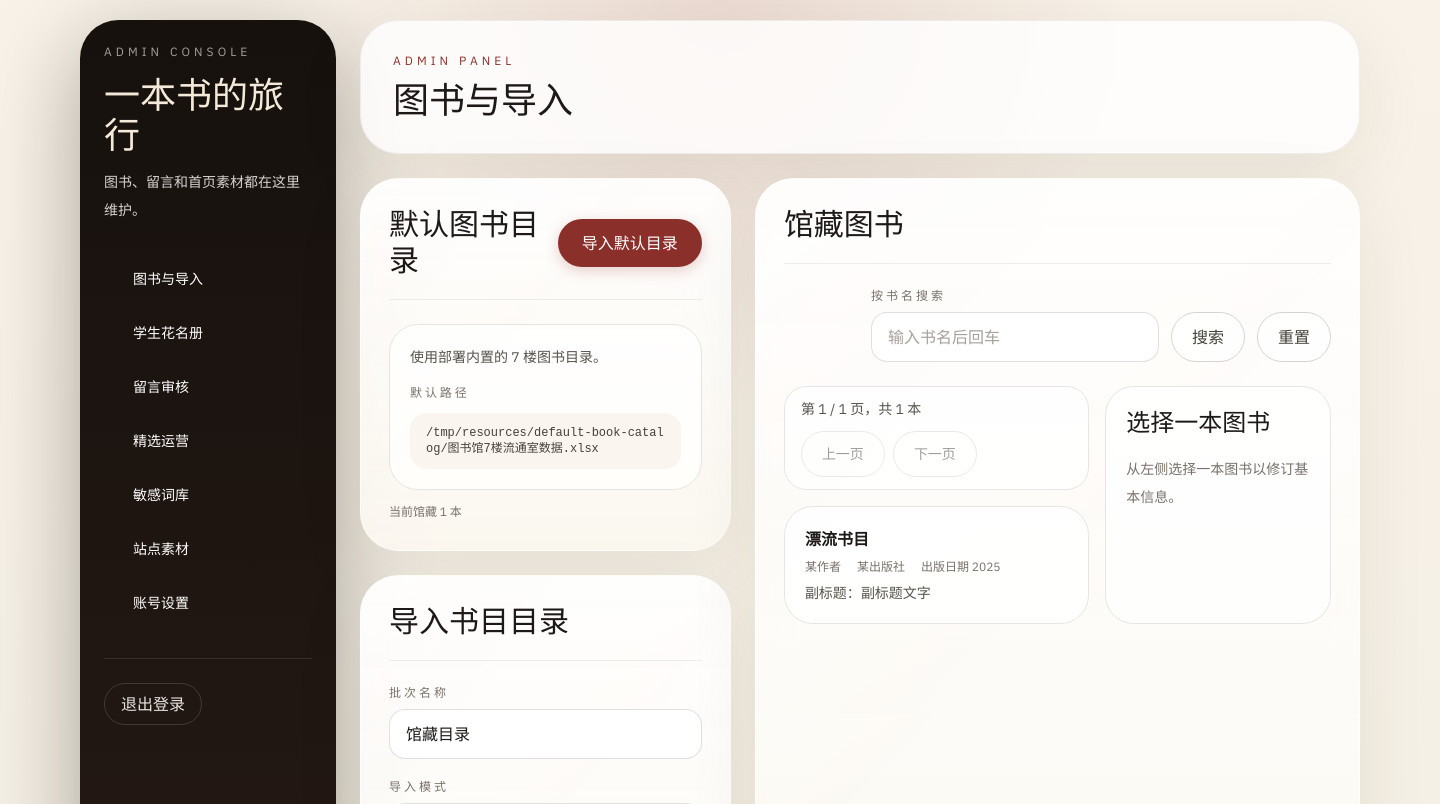
Test: BooksPage › clicking a book reveals edit form with pre-filled title
Step 1. Click the text "漂流书目" → (837, 539), box [805, 529, 869, 549]
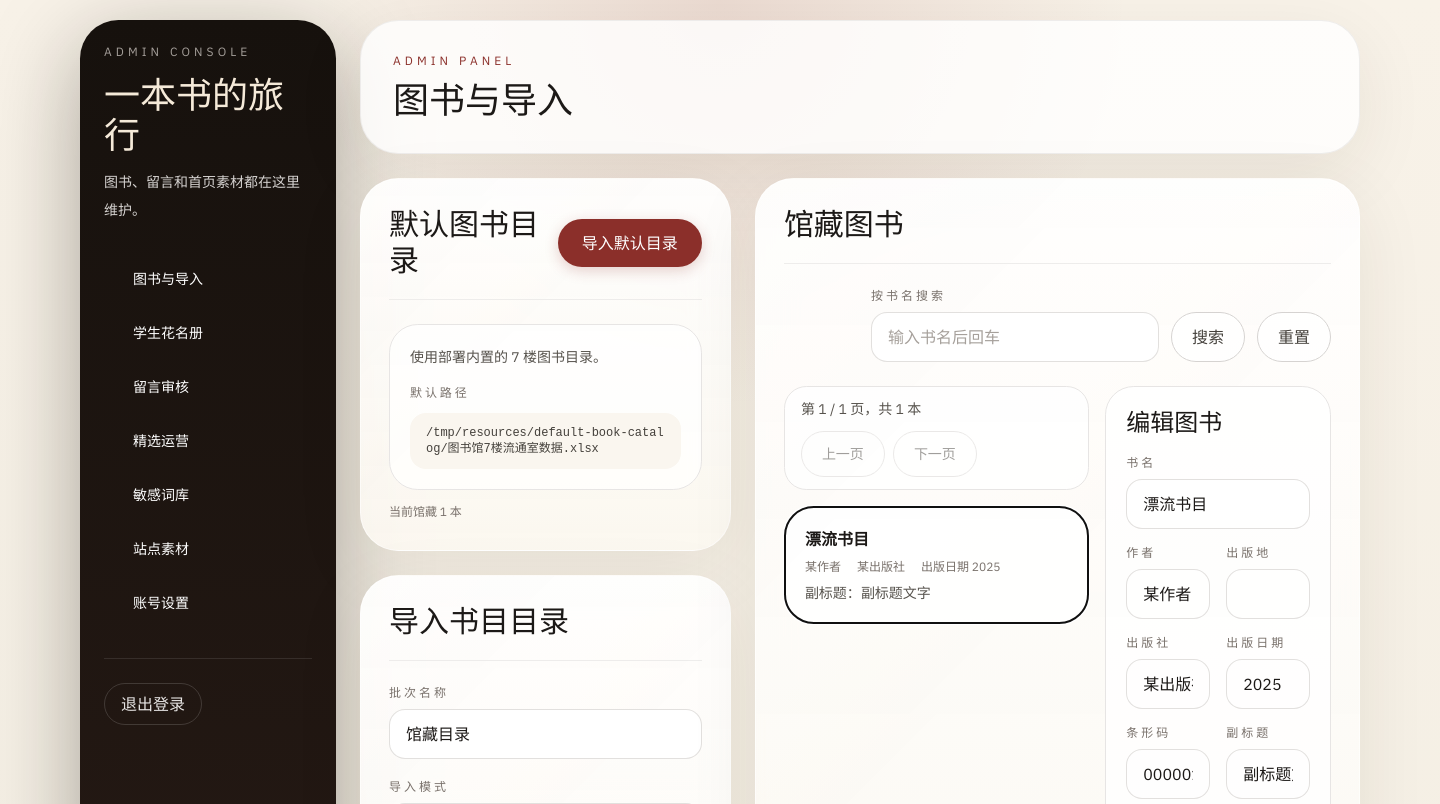
expect the heading "编辑图书" is shown: met, box [1126, 410, 1222, 436]
expect the field showing "漂流书目" is shown: met, box [1126, 479, 1310, 529]
